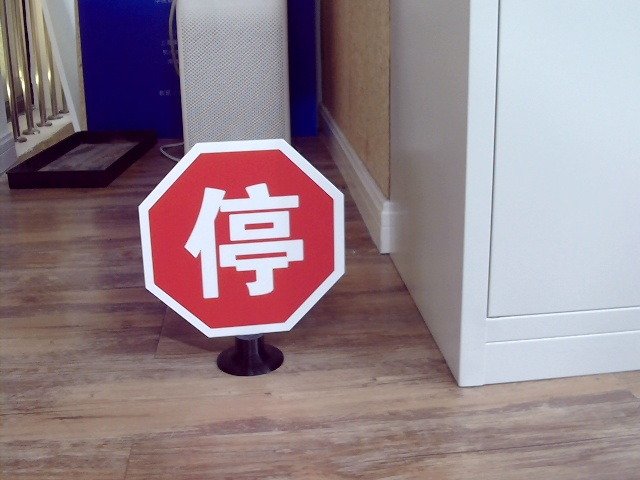stop: (186, 183, 303, 296)
